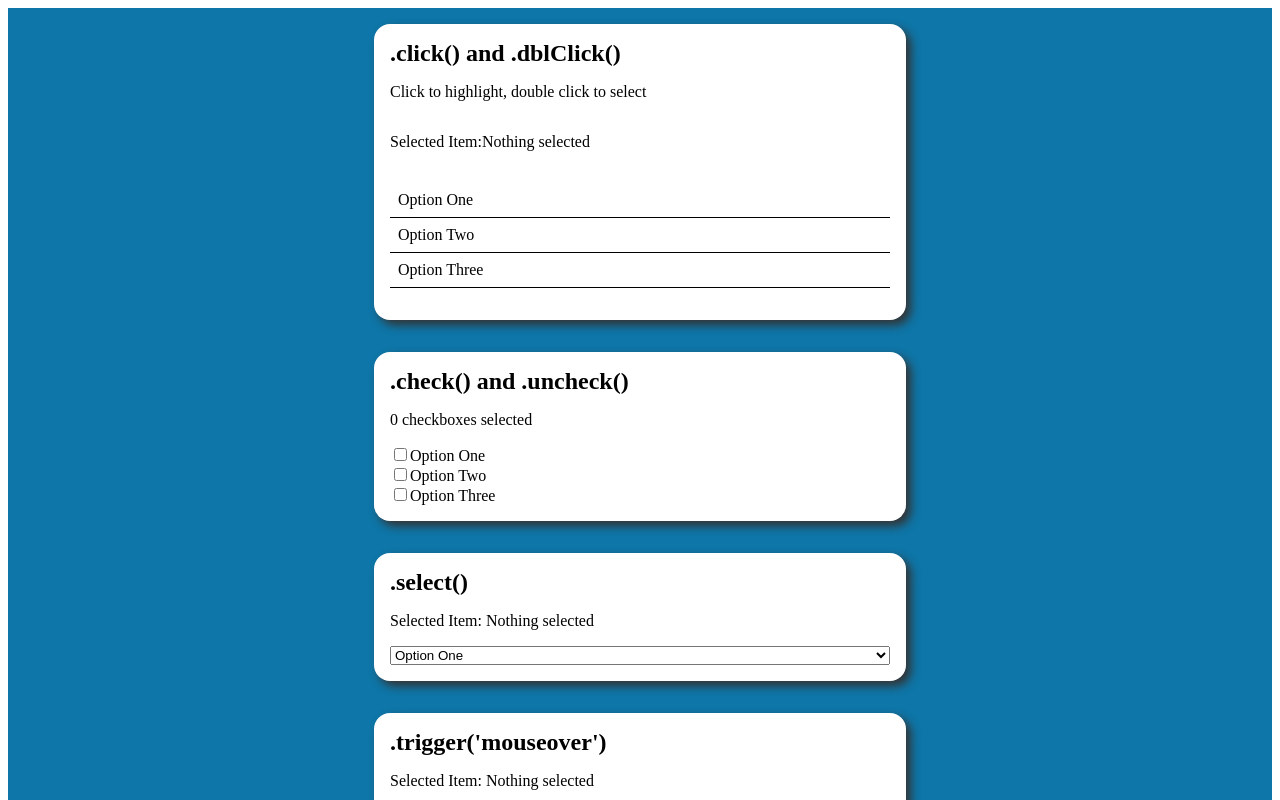
Test case: <Example4> › displays the correct count for the number of selected checkboxes
Check the checkbox labelled "Option One". click: (401, 455)
box: x1=394 y1=448 x2=407 y2=461
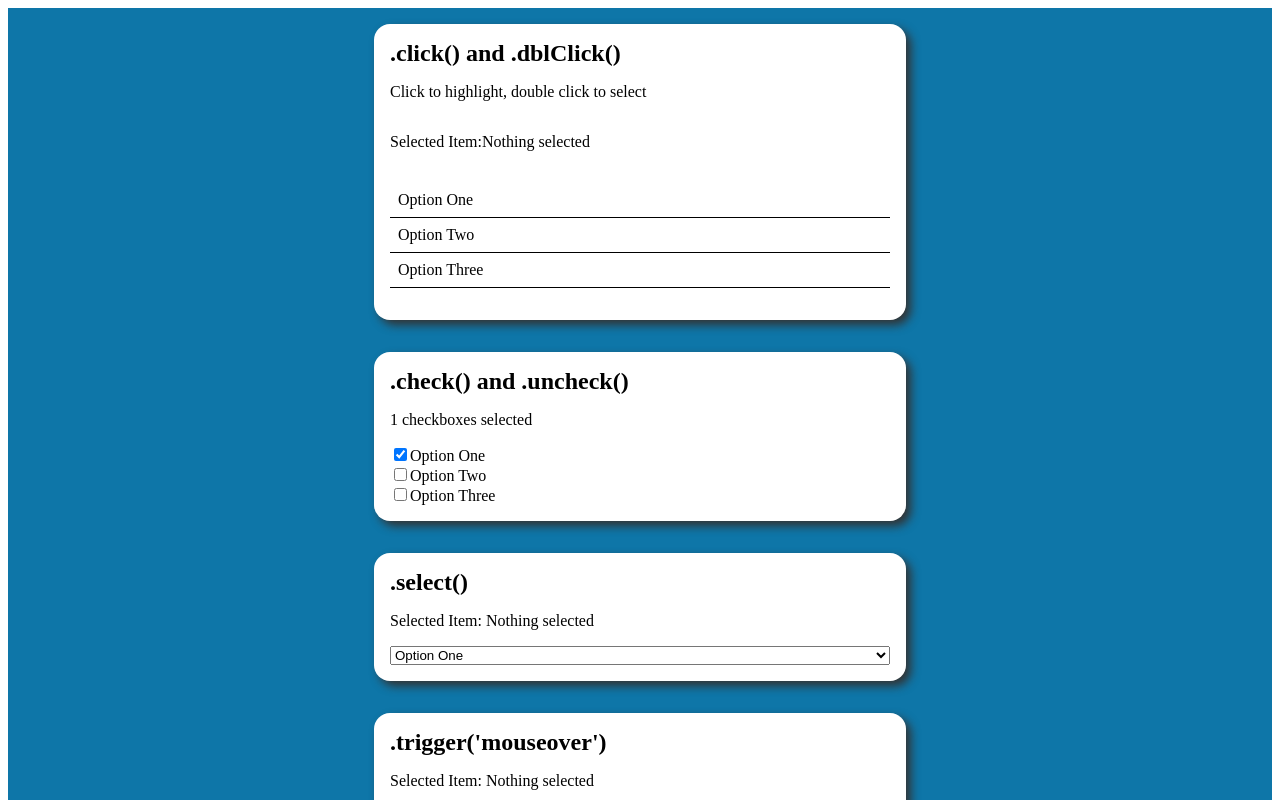
Check the checkbox labelled "Option Two". click: (401, 475)
box: x1=394 y1=468 x2=407 y2=481
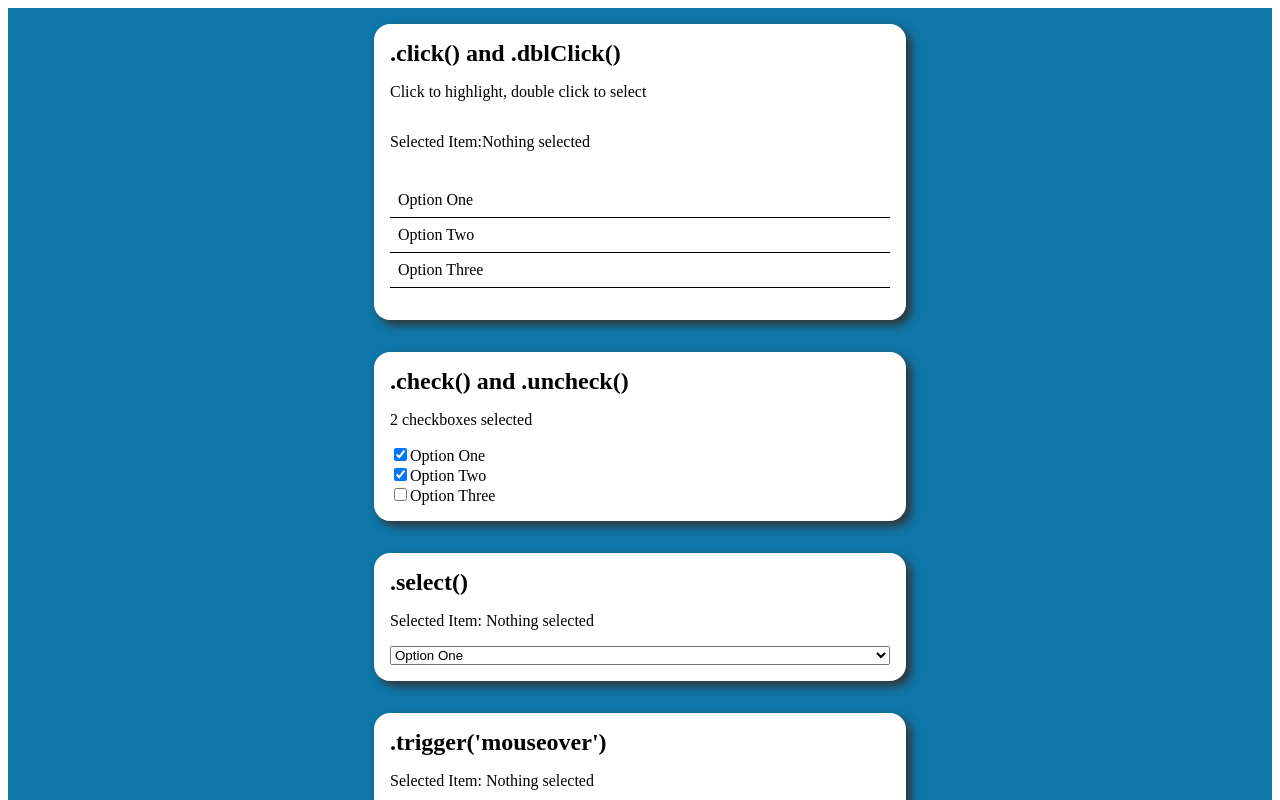
Check the checkbox labelled "Option Three". click: (401, 495)
box: x1=394 y1=488 x2=407 y2=501
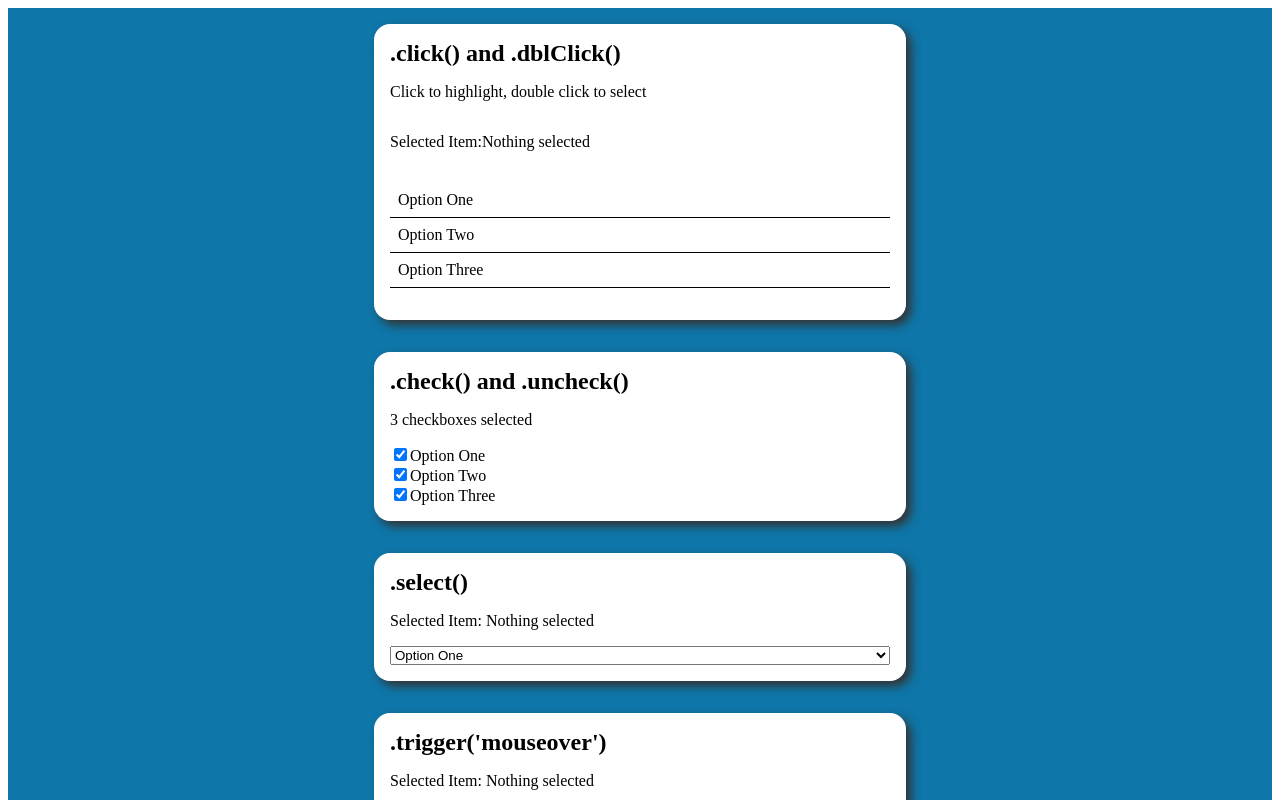
Uncheck the checkbox labelled "Option One". click: (401, 455)
box: x1=394 y1=448 x2=407 y2=461
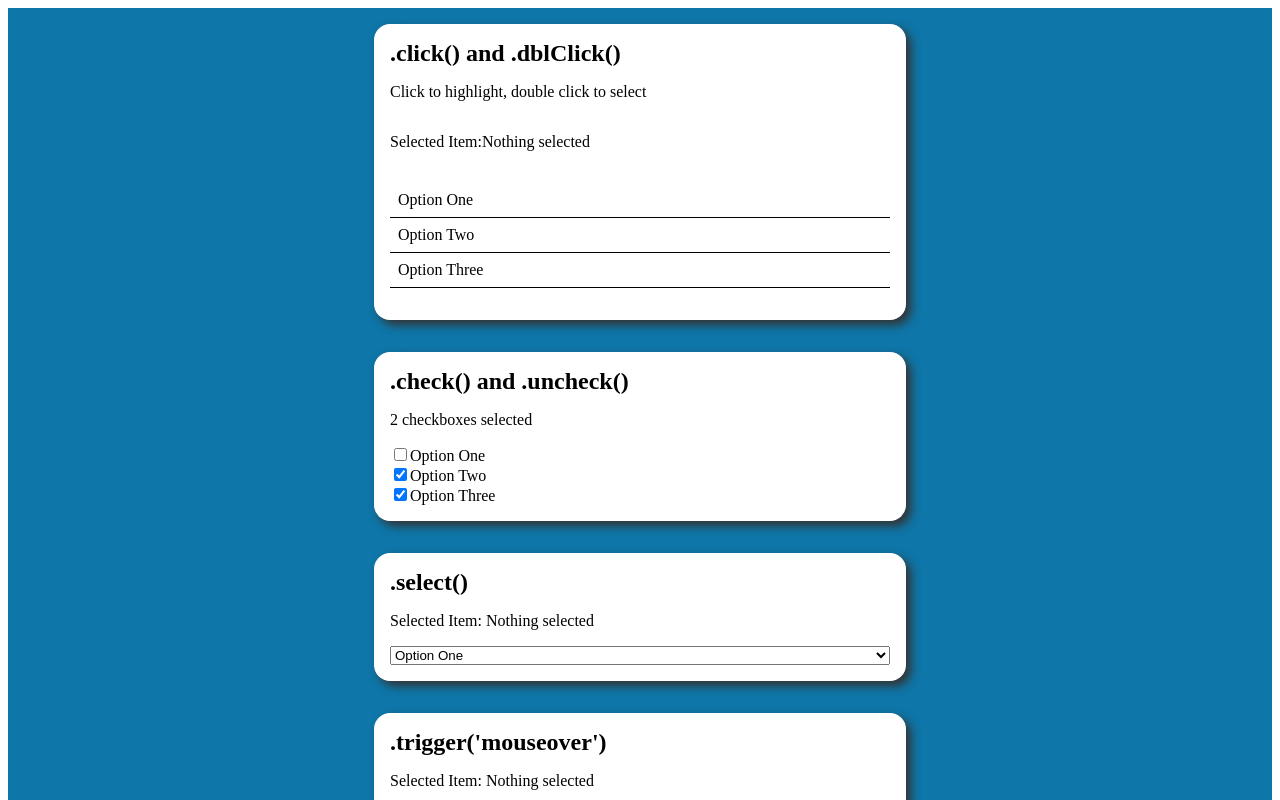
Expected: the text with test id "box-2-selected-count" reads "2", x1=390 y1=411 x2=398 y2=428
